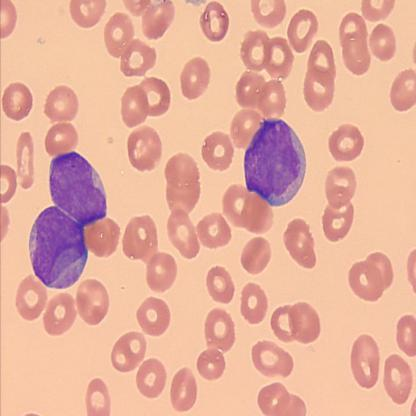Blast: (242, 116, 309, 209), (26, 204, 90, 291), (47, 149, 109, 228)
